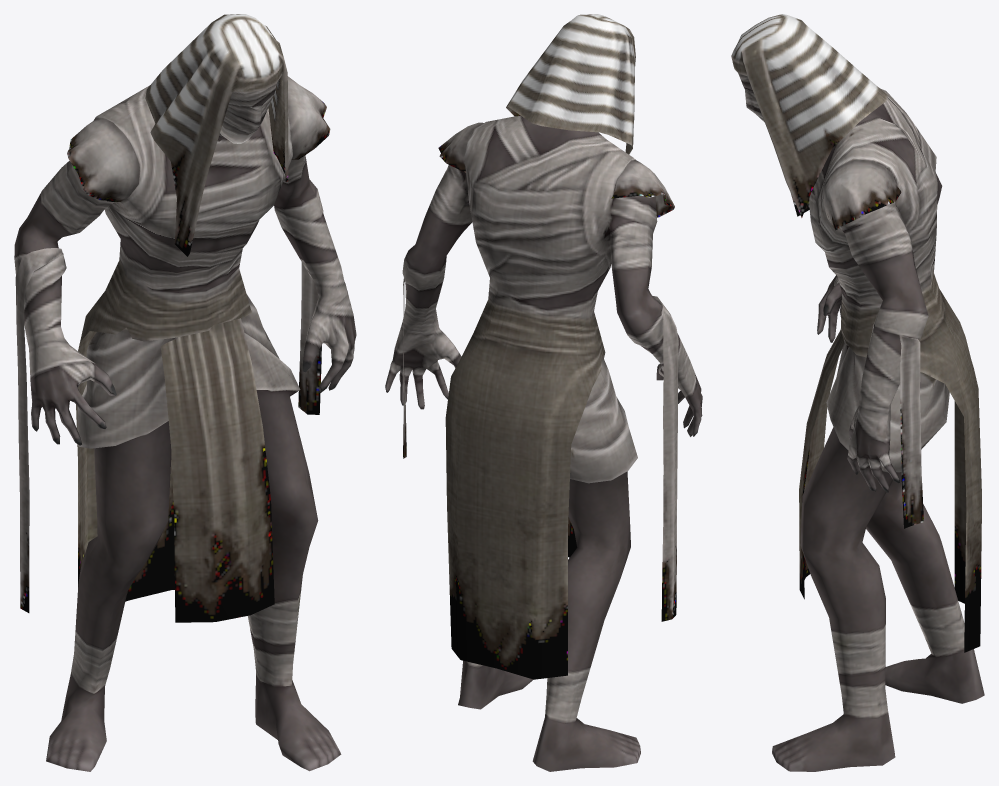
Rendered from body-base.glb.
3 renders of one model, left to right at view 1: azimuth 30°, elevation 25°; view 2: azimuth 150°, elevation 25°; view 3: azimuth 270°, elevation 25°, orthographic. The views are drawn at different scales.
Size of the model in its own units: 1.74 by 3.78 by 1.23.
Materials: 1 (1 with a texture image).
